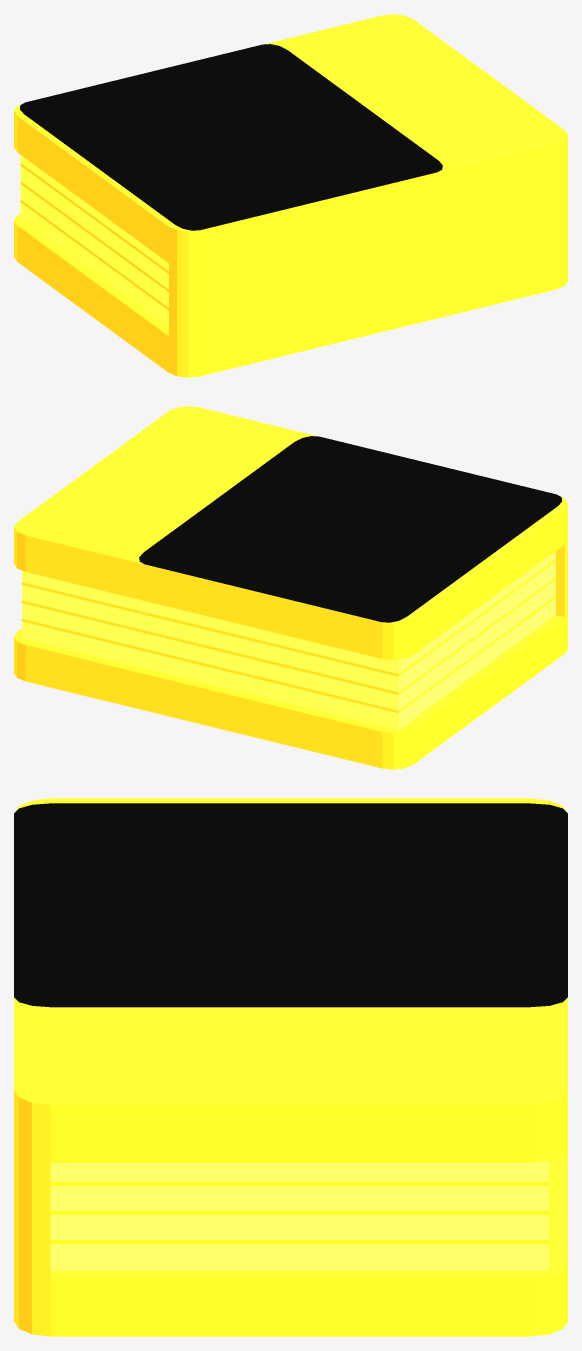
The model's file is diary-CAT.fbx.
3 renders of one model, top to bottom at view 1: azimuth 30°, elevation 25°; view 2: azimuth 150°, elevation 25°; view 3: azimuth 270°, elevation 25°, orthographic. The views are drawn at different scales.
Parts seen in each view (by area): view 1: Cube; view 2: Cube; view 3: Cube.
Part boxes in pixels (x1=…): Cube: x1=14, y1=14, x2=567, y2=377; Cube: x1=14, y1=406, x2=567, y2=769; Cube: x1=14, y1=798, x2=567, y2=1336.
Bounding box in the file's own units: 132 × 46.6 × 101.
4 materials, 1 textured.
